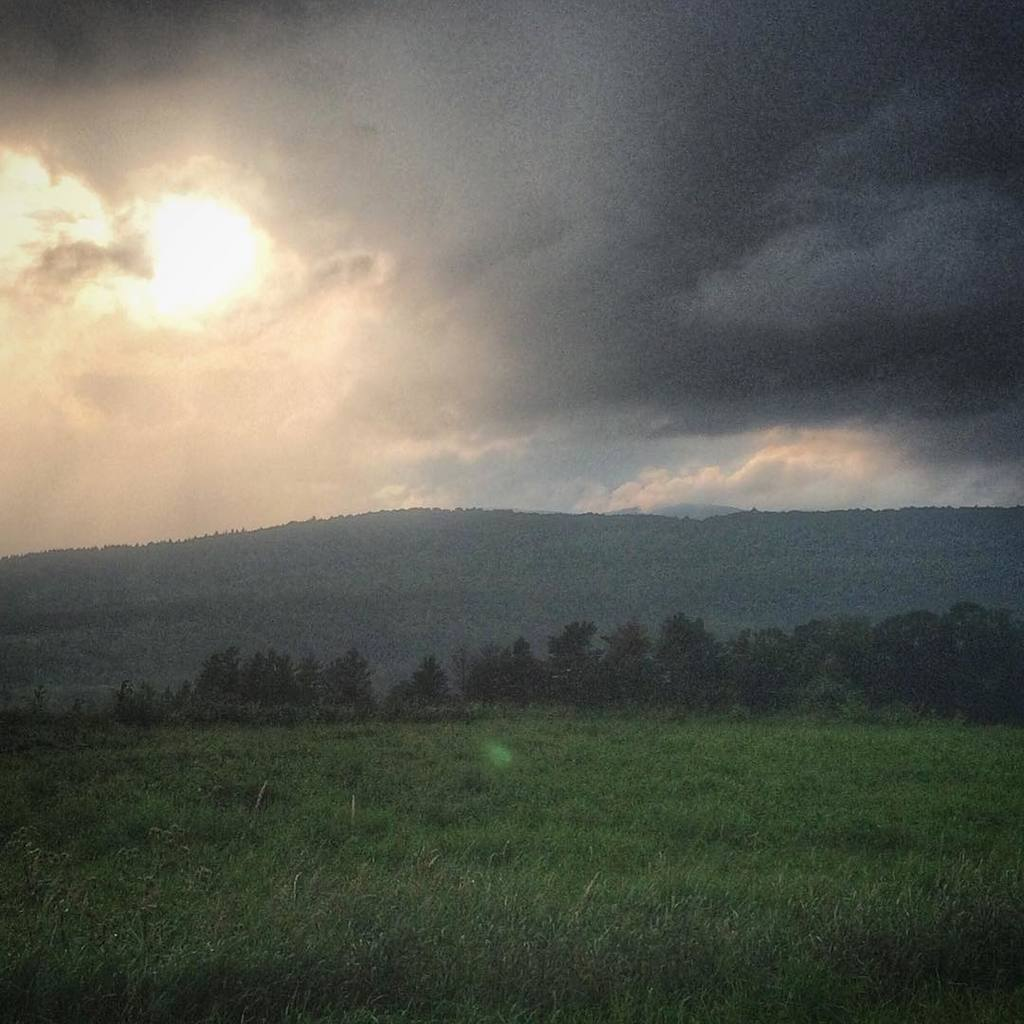Tree: (0, 504, 1023, 682), (110, 603, 1023, 727)
